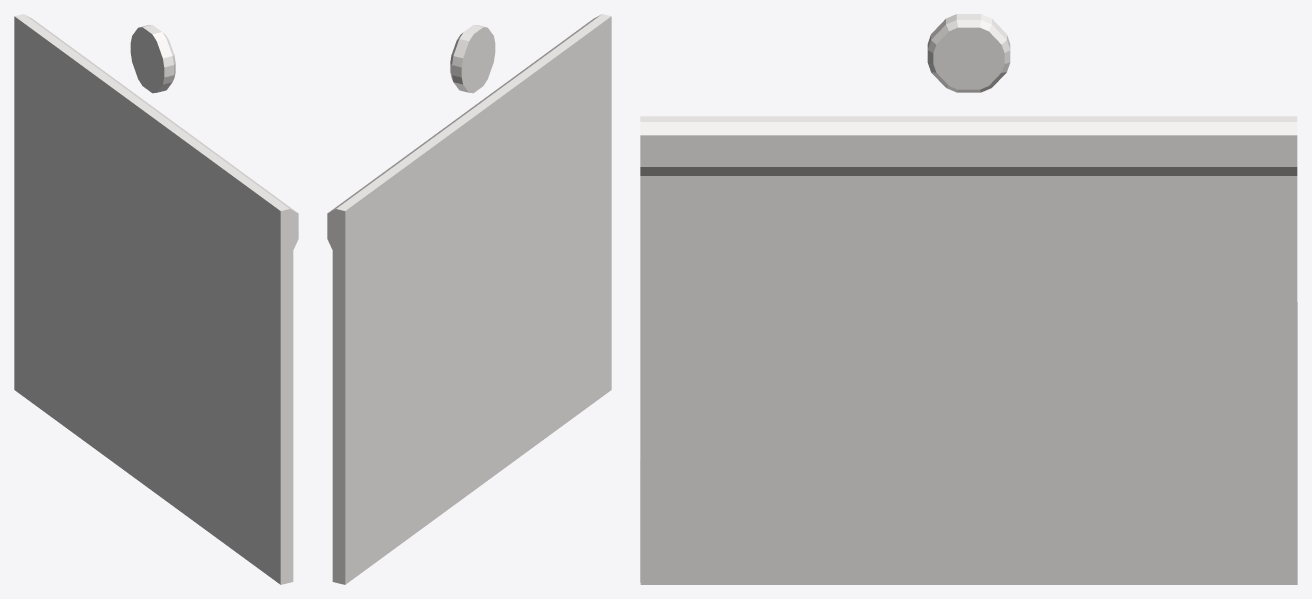
File: Calender.fbx
3 views of the same model, side by side, from view 1: azimuth 30°, elevation 25°; view 2: azimuth 150°, elevation 25°; view 3: azimuth 270°, elevation 25° (orthographic). The views are drawn at different scales.
Visible parts, largest first — view 1: Calender; view 2: Calender; view 3: Calender.
Boxes of the visible parts, x1,y1,x2,y2 form: Calender: (14, 14, 298, 584); Calender: (327, 14, 611, 584); Calender: (640, 14, 1297, 584).
Bounding box in the file's own units: 2.59 × 63.01 × 66.61.
